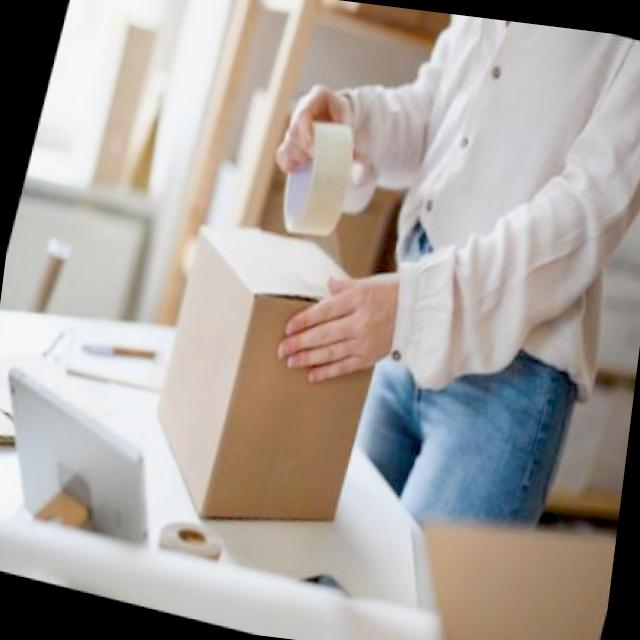box: (126, 201, 402, 554)
